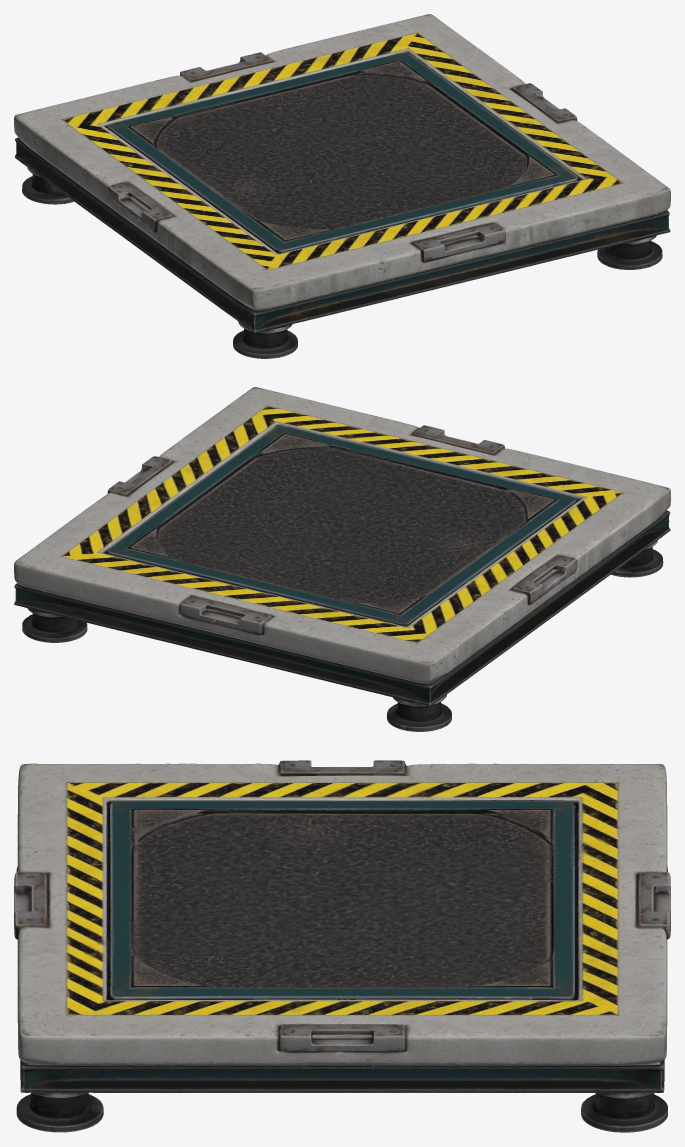
File: rooftop_platform_slab_module.glb
The picture shows the model from 3 angles, top to bottom: view 1: azimuth 30°, elevation 25°; view 2: azimuth 150°, elevation 25°; view 3: azimuth 270°, elevation 25°; orthographic projection. The views are drawn at different scales.
Size of the model in its own units: 1.9 by 0.3122 by 1.9.
Materials: 1 (1 with a texture image).
